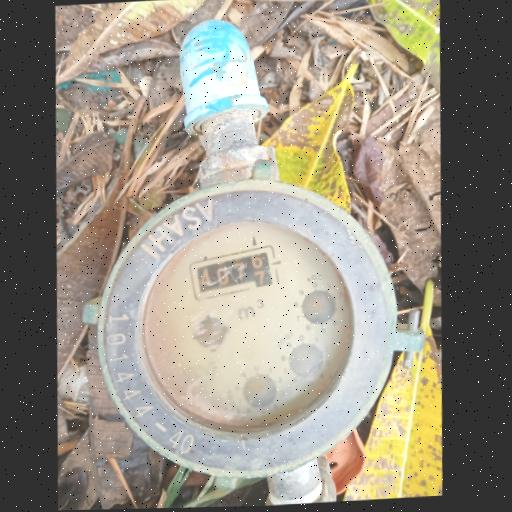0: (211, 259, 236, 289)
4: (195, 262, 218, 293)
6: (248, 250, 272, 287)
7: (229, 254, 255, 285)
border_water_meter_number: (186, 243, 281, 301)
